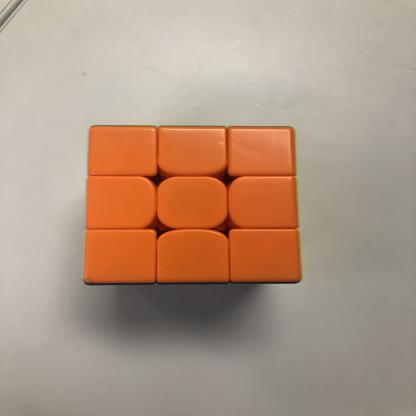SolvedCube: (85, 123, 303, 283)
